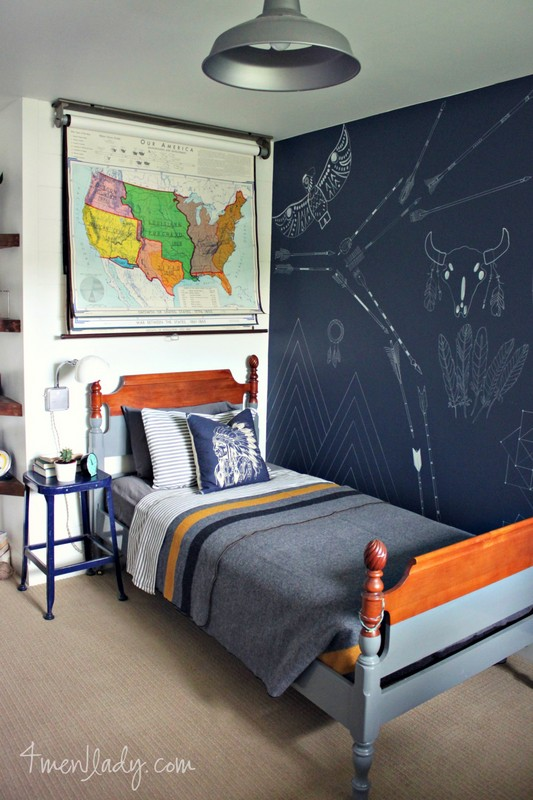bed: (87, 351, 533, 795)
stool: (14, 460, 134, 629)
table: (22, 465, 132, 627)
